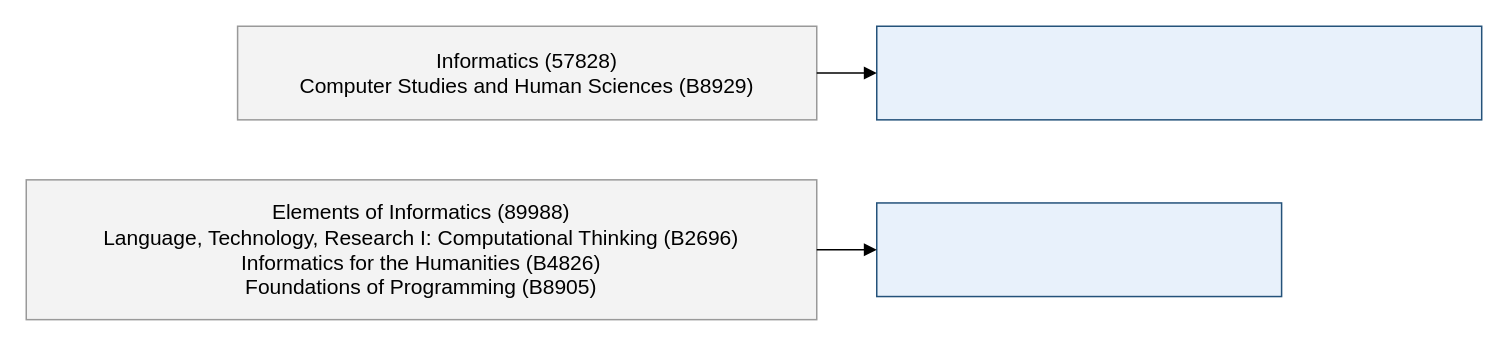
This 1509x347 diagram has some shape labels left out. Here are the shapes that lost their labels. From the top down, the centre of each, then its label:
[1178,72]: Informatics Foundations and Visual Programming 2 ECTS
[1078,249]: Python Graphics and Scripting 2 ECTS
